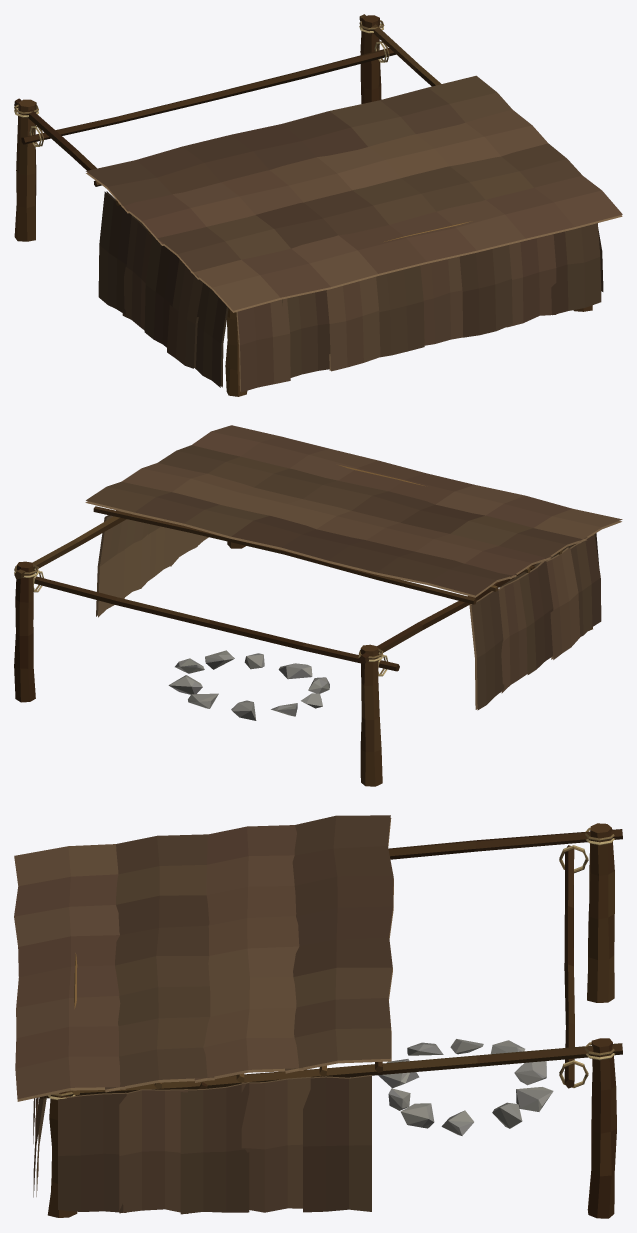
File: smokehouse_2_finito.glb
3 views of the same model, one above another, from view 1: azimuth 30°, elevation 25°; view 2: azimuth 150°, elevation 25°; view 3: azimuth 270°, elevation 25° (orthographic). The views are drawn at different scales.
Visible parts, largest first — view 1: smokehouse_2_finito; view 2: smokehouse_2_finito; view 3: smokehouse_2_finito.
Boxes of the visible parts, left/top/right/bottom form: smokehouse_2_finito: left=14, top=14, right=622, bottom=396; smokehouse_2_finito: left=14, top=425, right=622, bottom=786; smokehouse_2_finito: left=14, top=815, right=622, bottom=1218.
Size of the model in its own units: 7.7 by 2.54 by 8.14.
